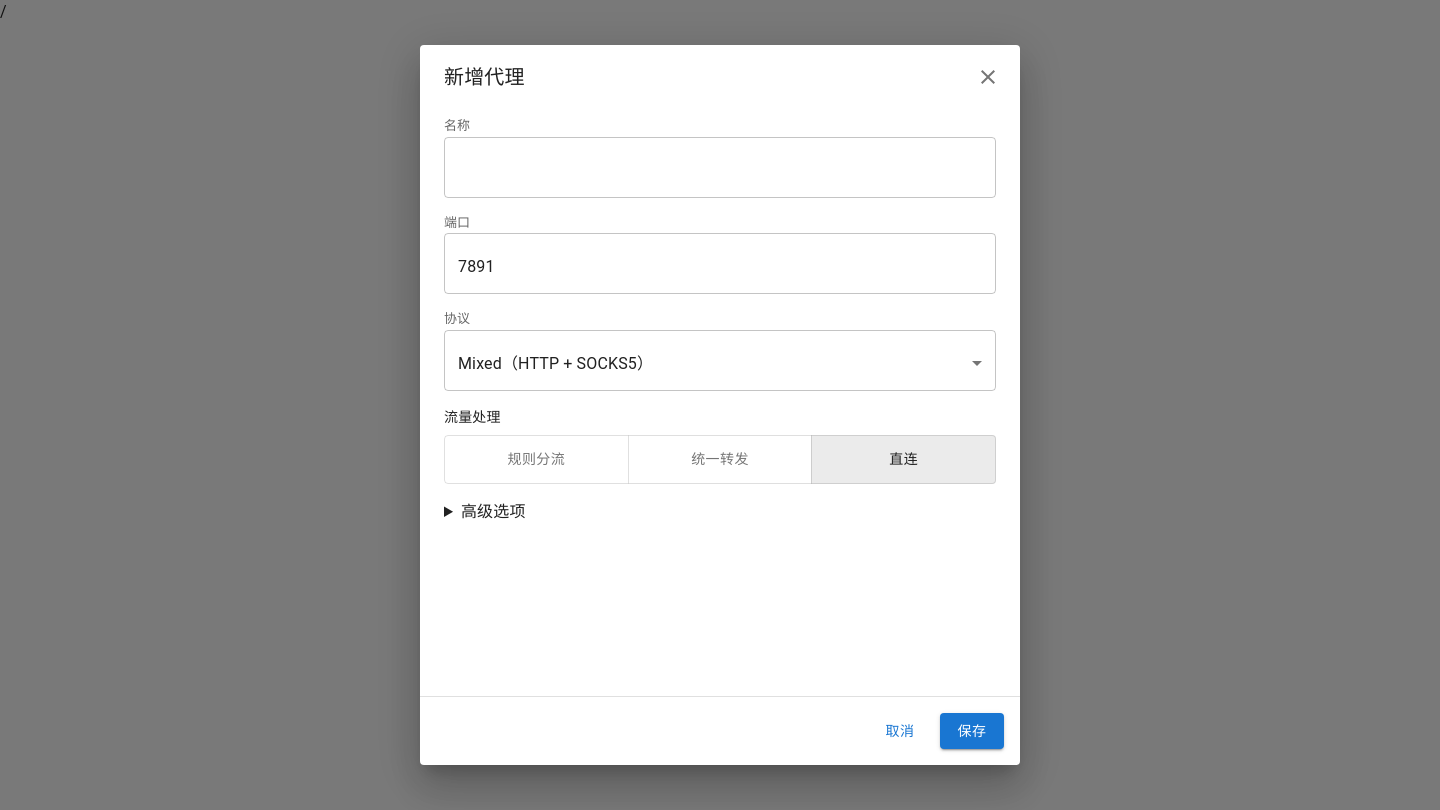
Test case: ListenerDialog V4.3 › rejects empty names before submitting
Click the button "保存": point(972, 731) [940,712,1004,749]
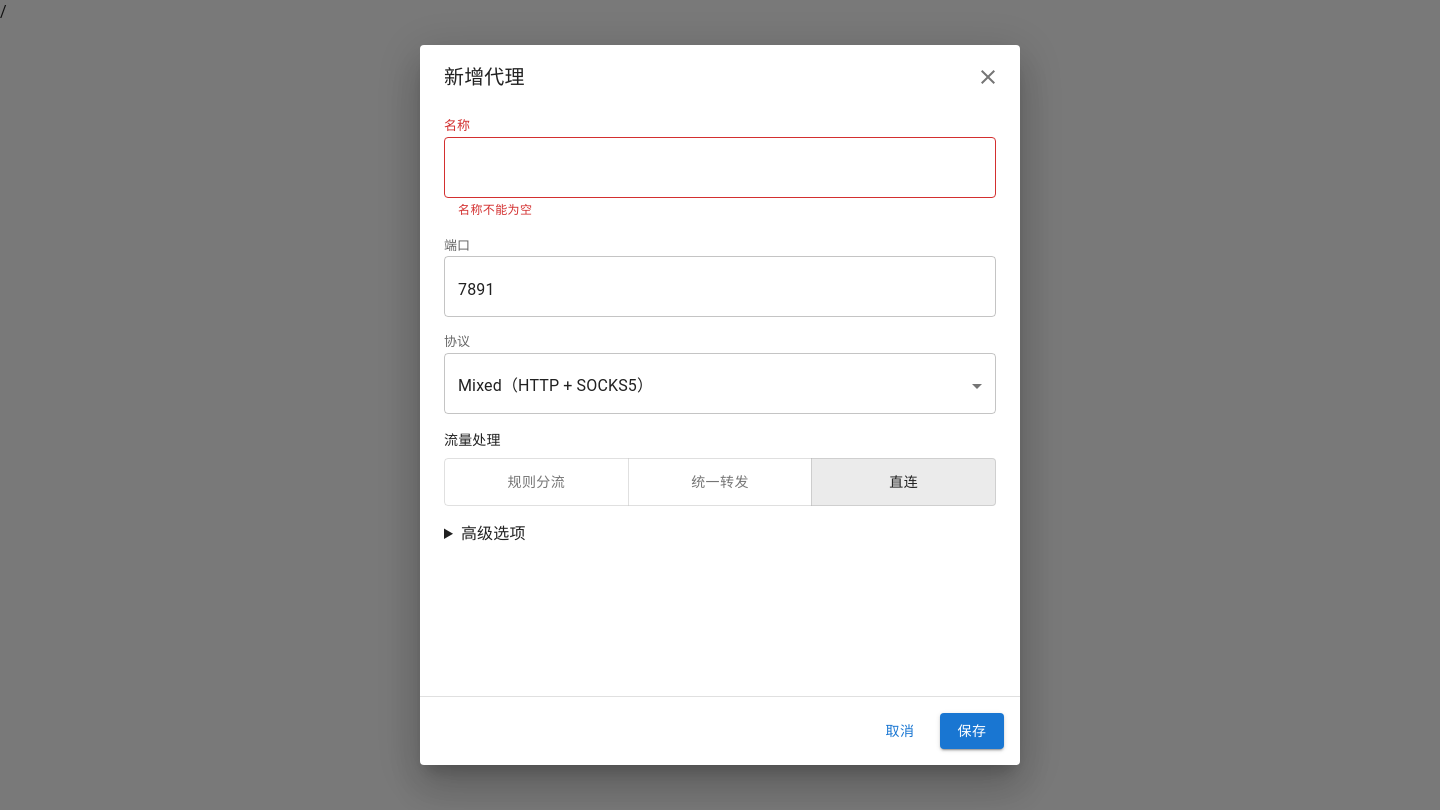
Check: the text "名称不能为空" is shown, box [458,203,532,217]
